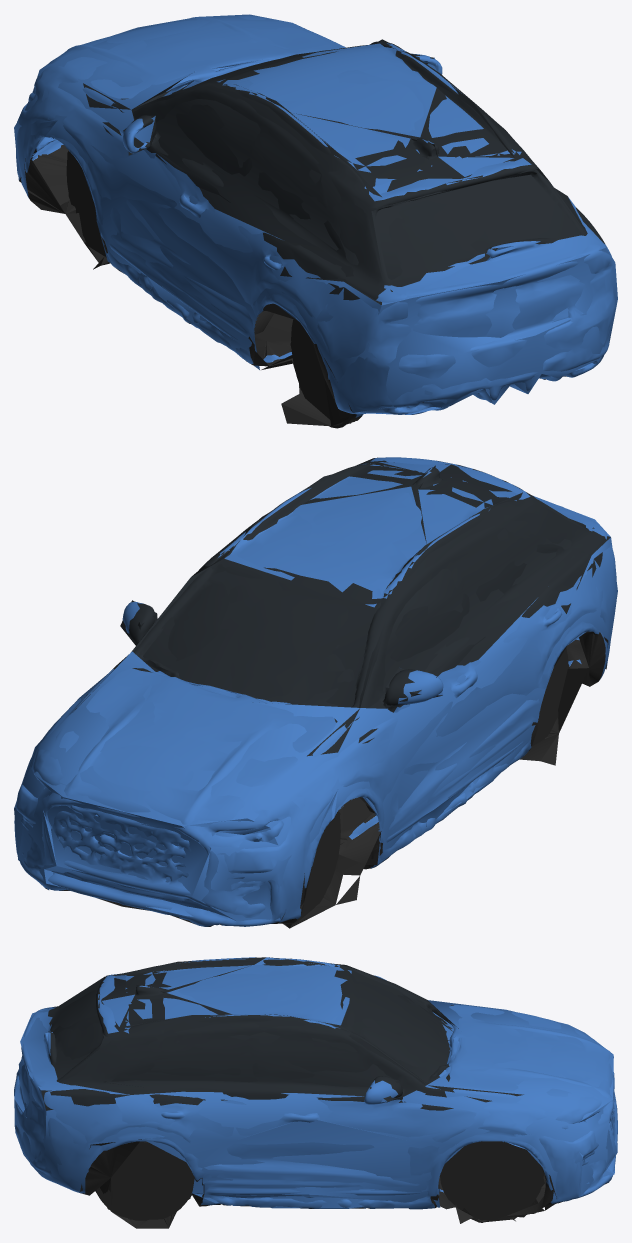
The model's file is audi-rs-q8.glb.
3 renders of one model, top to bottom at view 1: azimuth 30°, elevation 25°; view 2: azimuth 150°, elevation 25°; view 3: azimuth 270°, elevation 25°, orthographic. The views are drawn at different scales.
Visible parts, largest first — view 1: body, far; view 2: body, far; view 3: body, far.
Boxes of the visible parts, x1,y1,x2,y2 form: body: (16, 15, 615, 428); far: (14, 14, 617, 425); body: (14, 457, 617, 928); far: (14, 458, 617, 928); body: (14, 957, 617, 1228); far: (14, 957, 617, 1220).
Bounding box in the file's own units: 2.32 × 1.83 × 5.01.
